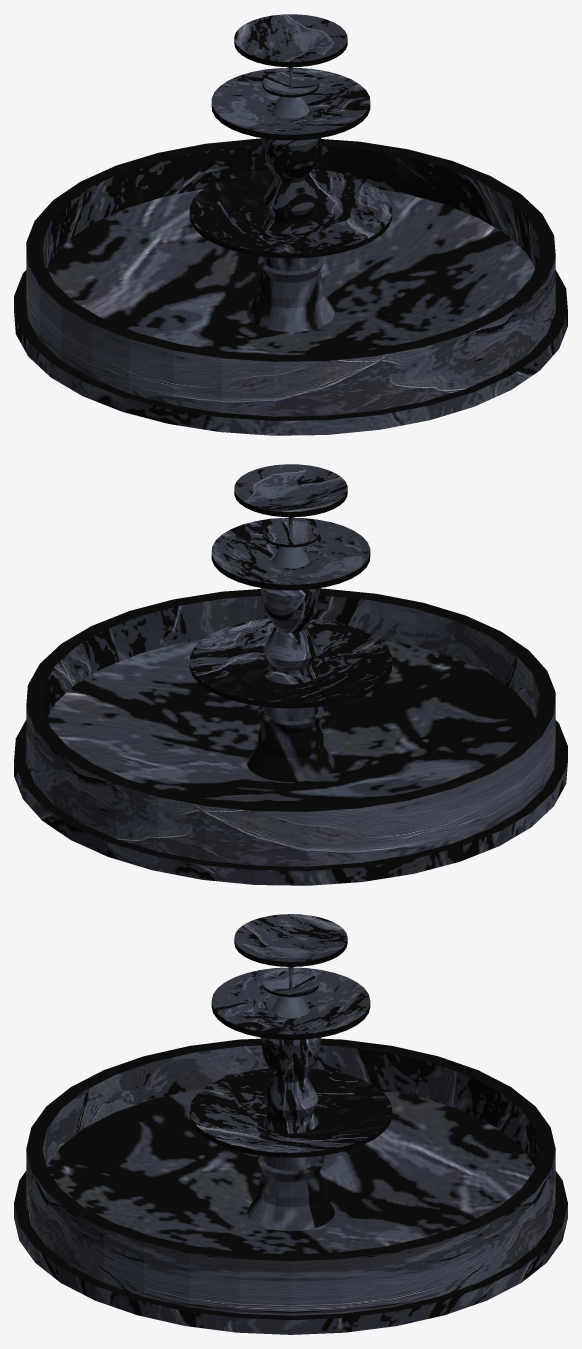
File: Fontana_New.fbx
3 views of the same model, one above another, from view 1: azimuth 30°, elevation 25°; view 2: azimuth 150°, elevation 25°; view 3: azimuth 270°, elevation 25° (orthographic).
Parts seen in each view (by area): view 1: Cylinder; view 2: Cylinder; view 3: Cylinder.
Boxes of the visible parts, left/top/right/bottom form: Cylinder: left=14, top=14, right=567, bottom=435; Cylinder: left=14, top=464, right=567, bottom=885; Cylinder: left=14, top=914, right=567, bottom=1334.
Size of the model in its own units: 620 by 346 by 620.
Materials: 1 (1 with a texture image).
